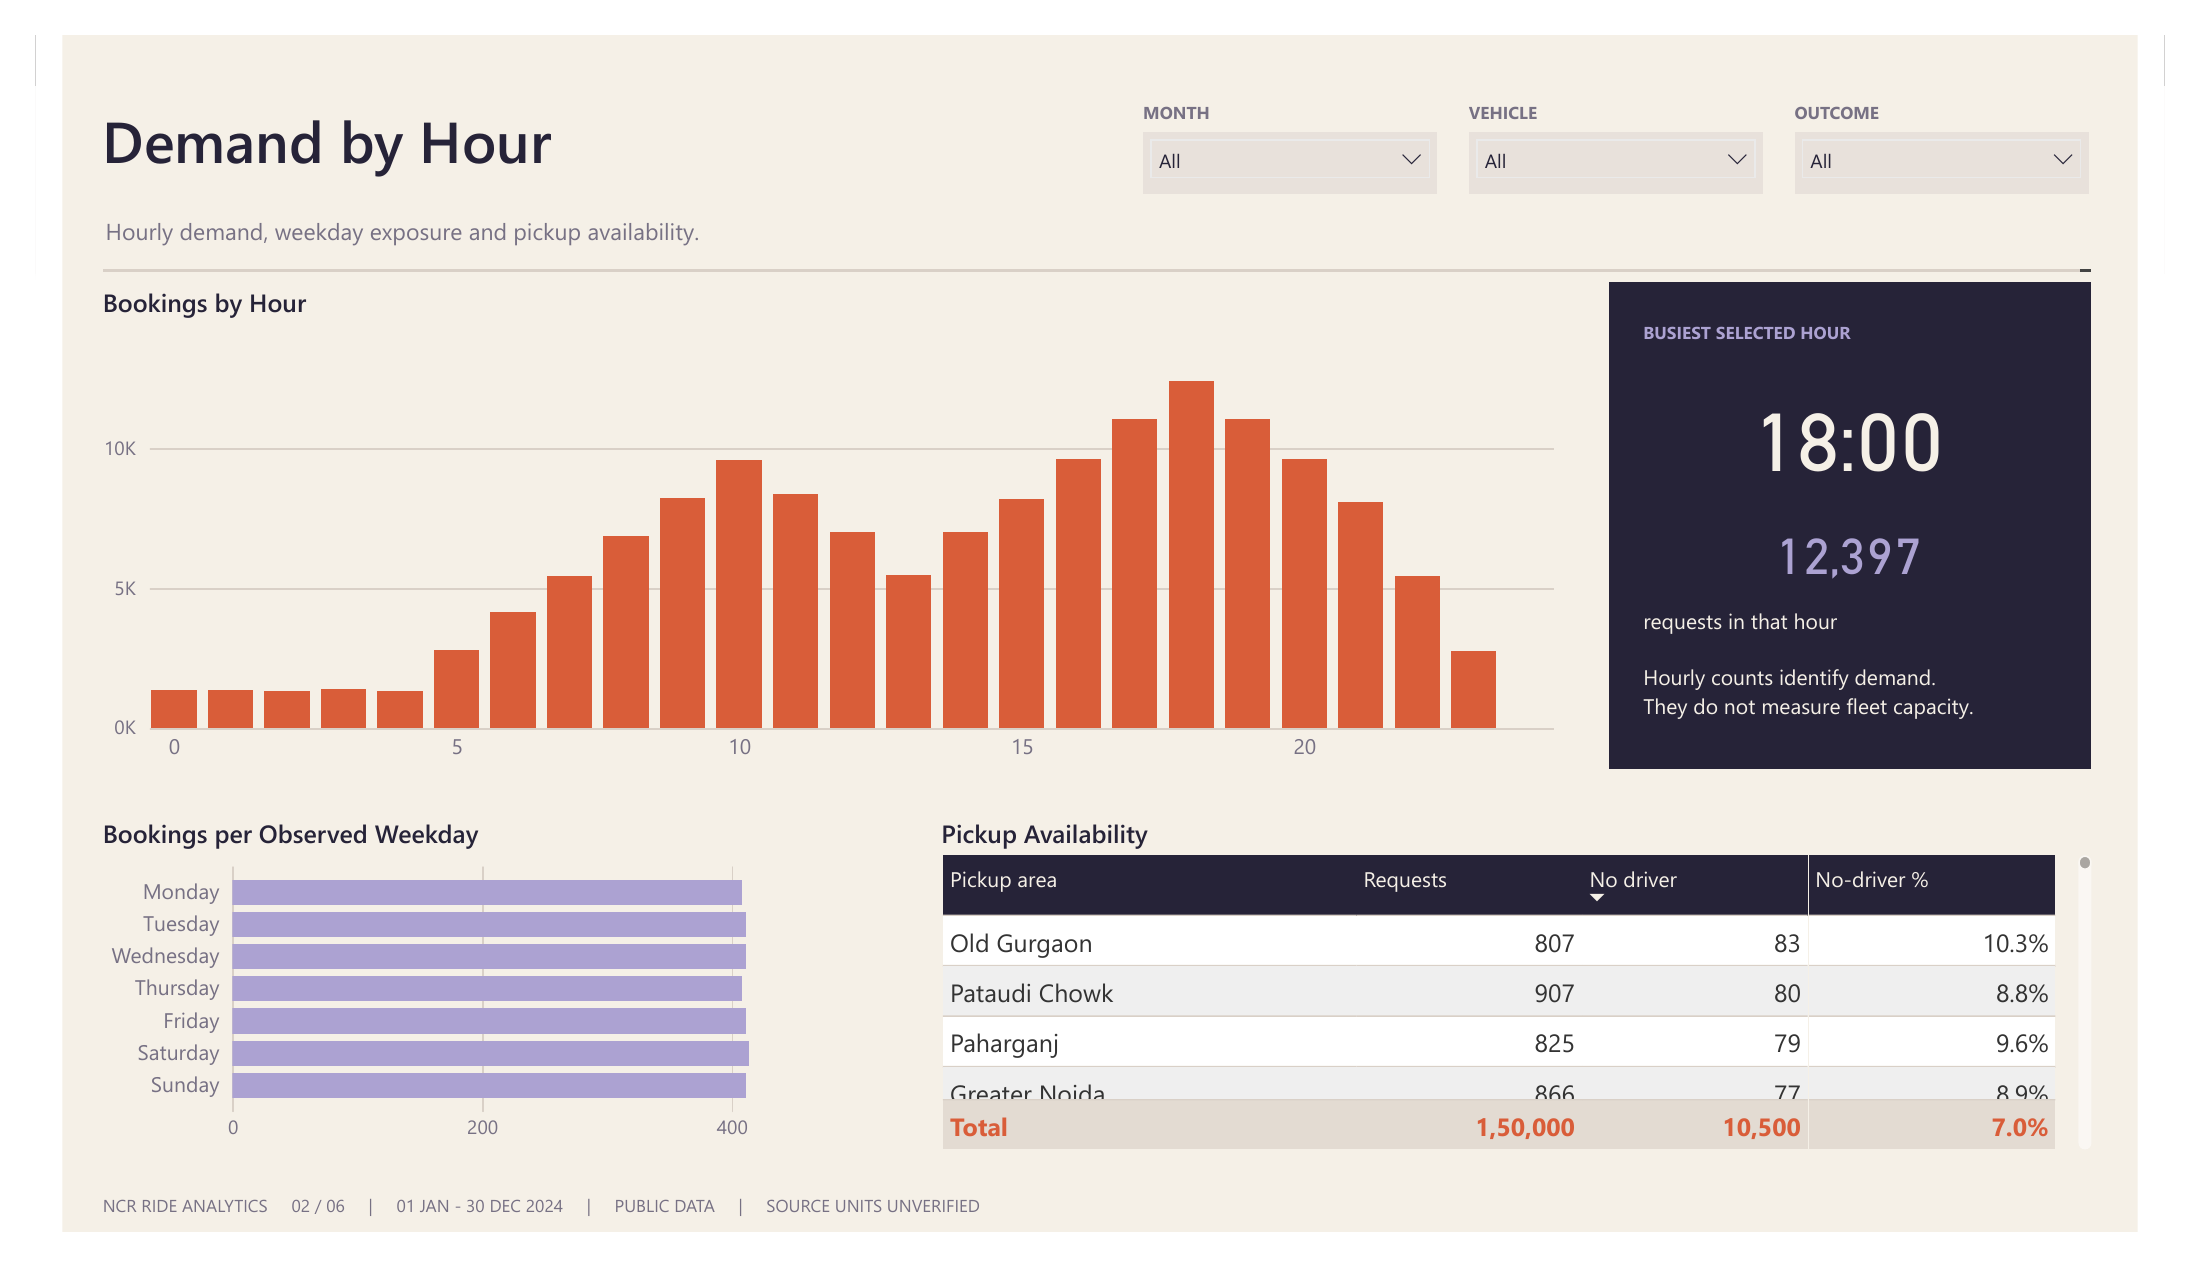

Layout of this report page (visuals, bound fields, positions):
{"tool":"powerbi","page":{"name":"02 / Demand","canvas":[1440,810],"ordinal":1},"visuals":[{"type":"textbox","box":[28,26,680,62],"z":21},{"type":"textbox","box":[750,23,204,20],"z":22},{"type":"slicer","fields":{"Values":["Calendar.month"]},"box":[750,47,204,43],"z":23},{"type":"textbox","box":[976,23,204,20],"z":24},{"type":"slicer","fields":{"Values":["Vehicle.vehicle_type"]},"box":[976,47,204,43],"z":25},{"type":"textbox","box":[1202,23,204,20],"z":26},{"type":"slicer","fields":{"Values":["Status.status"]},"box":[1202,47,204,43],"z":27},{"type":"textbox","box":[30,105,1376,32],"z":28},{"type":"textbox","box":[28,142,1380,2],"z":29},{"type":"textbox","box":[28,782,1380,24],"z":30},{"type":"clusteredColumnChart","title":"Bookings by Hour","fields":{"Category":["Bookings.hour"],"Y":["Bookings.Bookings"]},"box":[28,153,1007.1,337],"z":31},{"type":"textbox","box":[1073.5,151,334.6,338],"z":32},{"type":"textbox","box":[1096.7,176,284.6,25],"z":33},{"type":"card","fields":{"Values":["Bookings.Peak Hour"]},"box":[1089.7,210,299.7,90],"z":34},{"type":"card","fields":{"Values":["Bookings.Peak Hour Requests"]},"box":[1096.7,308,285.8,62],"z":35},{"type":"textbox","box":[1096.7,376,283.4,99],"z":36},{"type":"barChart","title":"Bookings per Observed Weekday","fields":{"Category":["Calendar.weekday"],"Y":["Bookings.Bookings per Observed Day"]},"box":[28,522,534.3,231],"z":37},{"type":"tableEx","title":"Pickup Availability","fields":{"Values":["Pickup.pickup","Bookings.Bookings","Bookings.No Driver","Bookings.No Driver Rate"]},"box":[610,522,798,231],"z":38}]}

Visuals, with their boxes in screenshot pixels (x1, y1, x2, y2), scaled from the page's 1440x810 canvas onto the 2200x1268 screenshot:
textbox: region(43, 41, 1082, 138)
textbox: region(1146, 36, 1458, 67)
slicer - Calendar.month: region(1146, 74, 1458, 141)
textbox: region(1491, 36, 1803, 67)
slicer - Vehicle.vehicle_type: region(1491, 74, 1803, 141)
textbox: region(1836, 36, 2148, 67)
slicer - Status.status: region(1836, 74, 2148, 141)
textbox: region(46, 164, 2148, 214)
textbox: region(43, 222, 2151, 225)
textbox: region(43, 1224, 2151, 1262)
"Bookings by Hour" clusteredColumnChart: region(43, 240, 1581, 767)
textbox: region(1640, 236, 2151, 765)
textbox: region(1676, 276, 2110, 315)
card - Bookings.Peak Hour: region(1665, 329, 2123, 470)
card - Bookings.Peak Hour Requests: region(1676, 482, 2112, 579)
textbox: region(1676, 589, 2108, 744)
"Bookings per Observed Weekday" barChart: region(43, 817, 859, 1179)
"Pickup Availability" tableEx: region(932, 817, 2151, 1179)
